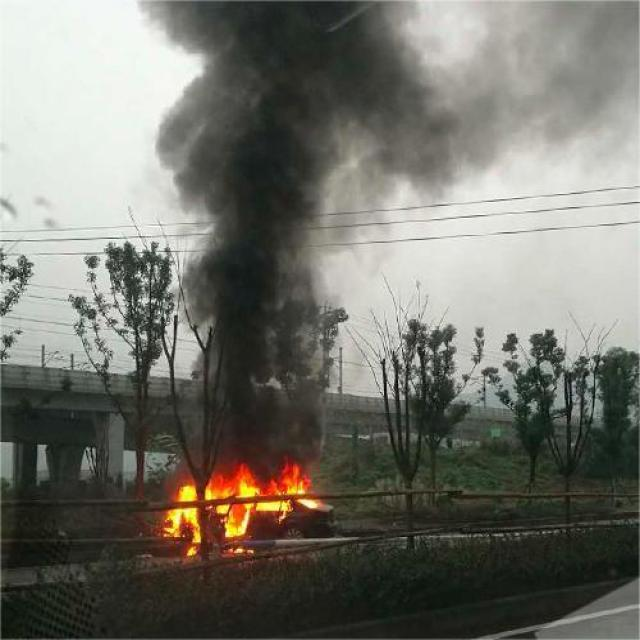Fire: (165, 469, 309, 537)
Smoke: (139, 0, 636, 207), (178, 210, 325, 454)
